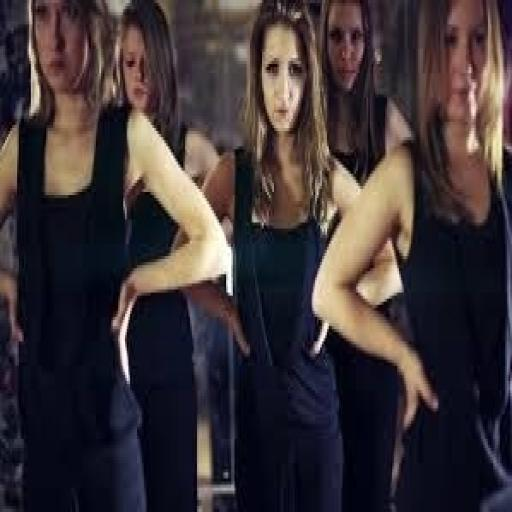dancing: (0, 0, 240, 509), (310, 0, 510, 509), (195, 22, 382, 512)
